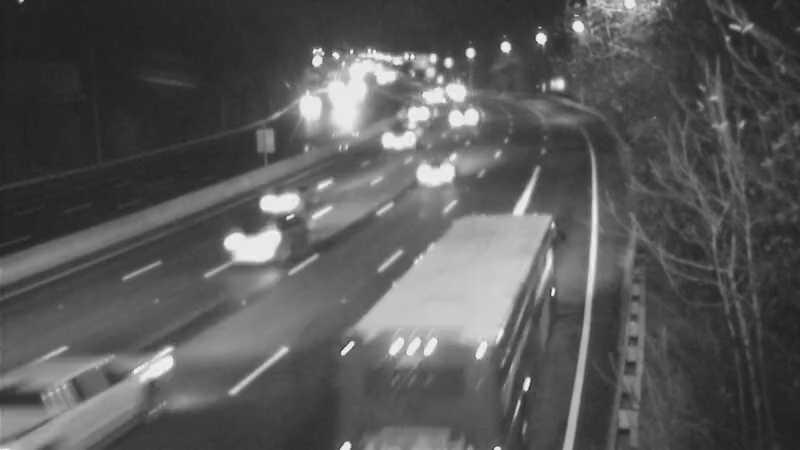vehicle: (387, 317, 497, 427), (19, 338, 129, 448), (400, 130, 480, 210), (243, 151, 323, 231), (211, 196, 291, 276), (409, 75, 459, 125), (389, 87, 439, 137), (439, 91, 489, 141), (372, 115, 422, 165), (282, 85, 332, 135)
